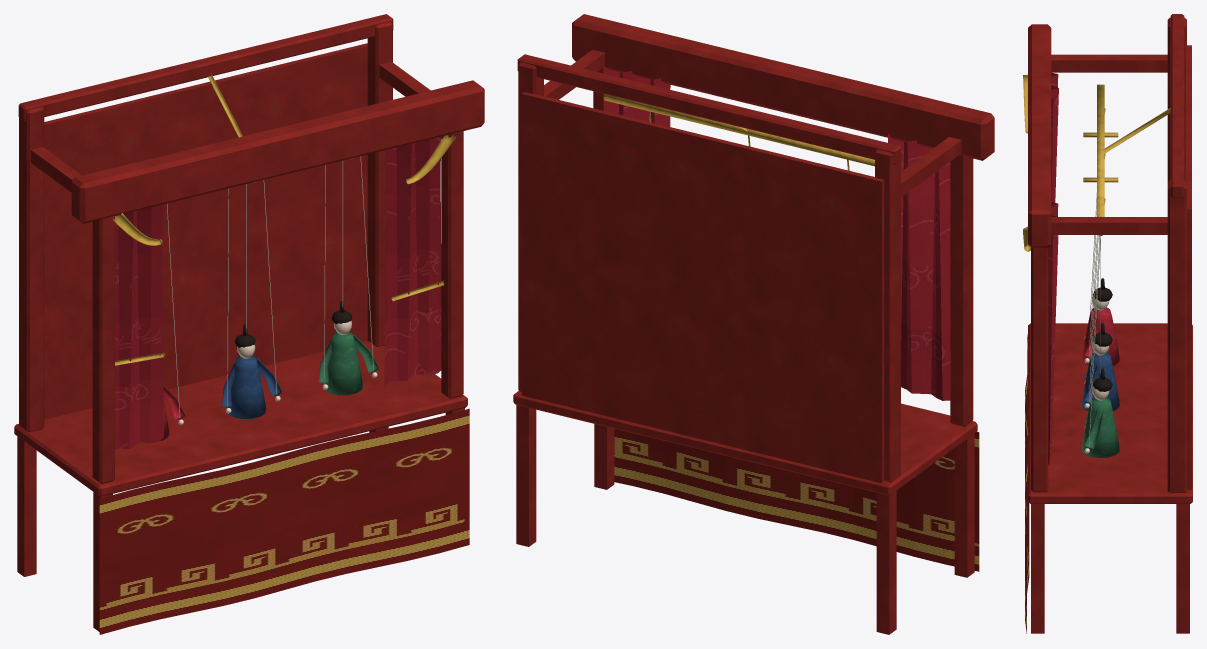
Rendered from puppet_frame.glb.
The picture shows the model from 3 angles, left to right: view 1: azimuth 30°, elevation 25°; view 2: azimuth 150°, elevation 25°; view 3: azimuth 270°, elevation 25°; orthographic projection. The views are drawn at different scales.
Visible parts, largest first — view 1: Stage, StageSkirt, Curtains, PuppetRobe1, PuppetRobe2, StageGilt, PuppetStrings; view 2: Stage, StageSkirt, Curtains, StageGilt; view 3: Stage, Curtains, StageGilt, PuppetRobe2, PuppetStrings, PuppetRobe1, PuppetRobe0, StageSkirt, PuppetHair, PuppetFaces.
Part boxes in pixels (x1,y1,x2,y2): Stage: [14, 14, 484, 631]; StageSkirt: [99, 408, 469, 634]; Curtains: [115, 136, 441, 449]; PuppetRobe1: [222, 355, 281, 418]; PuppetRobe2: [318, 332, 378, 395]; StageGilt: [112, 73, 455, 365]; PuppetStrings: [167, 156, 373, 417]; Stage: [513, 14, 994, 634]; StageSkirt: [614, 429, 979, 571]; Curtains: [603, 66, 950, 400]; StageGilt: [604, 94, 874, 170]; Stage: [1028, 14, 1192, 633]; Curtains: [1048, 72, 1058, 464]; StageGilt: [1023, 74, 1170, 251]; PuppetRobe2: [1082, 397, 1119, 457]; PuppetStrings: [1089, 193, 1100, 447]; PuppetRobe1: [1082, 352, 1119, 410]; PuppetRobe0: [1082, 307, 1119, 365]; StageSkirt: [1025, 334, 1029, 633]; PuppetHair: [1093, 278, 1112, 391]; PuppetFaces: [1084, 296, 1109, 453].
Size of what is drawn, in the model's own units: 2.3 by 2.56 by 0.876.
Materials: 10 (8 with a texture image).
